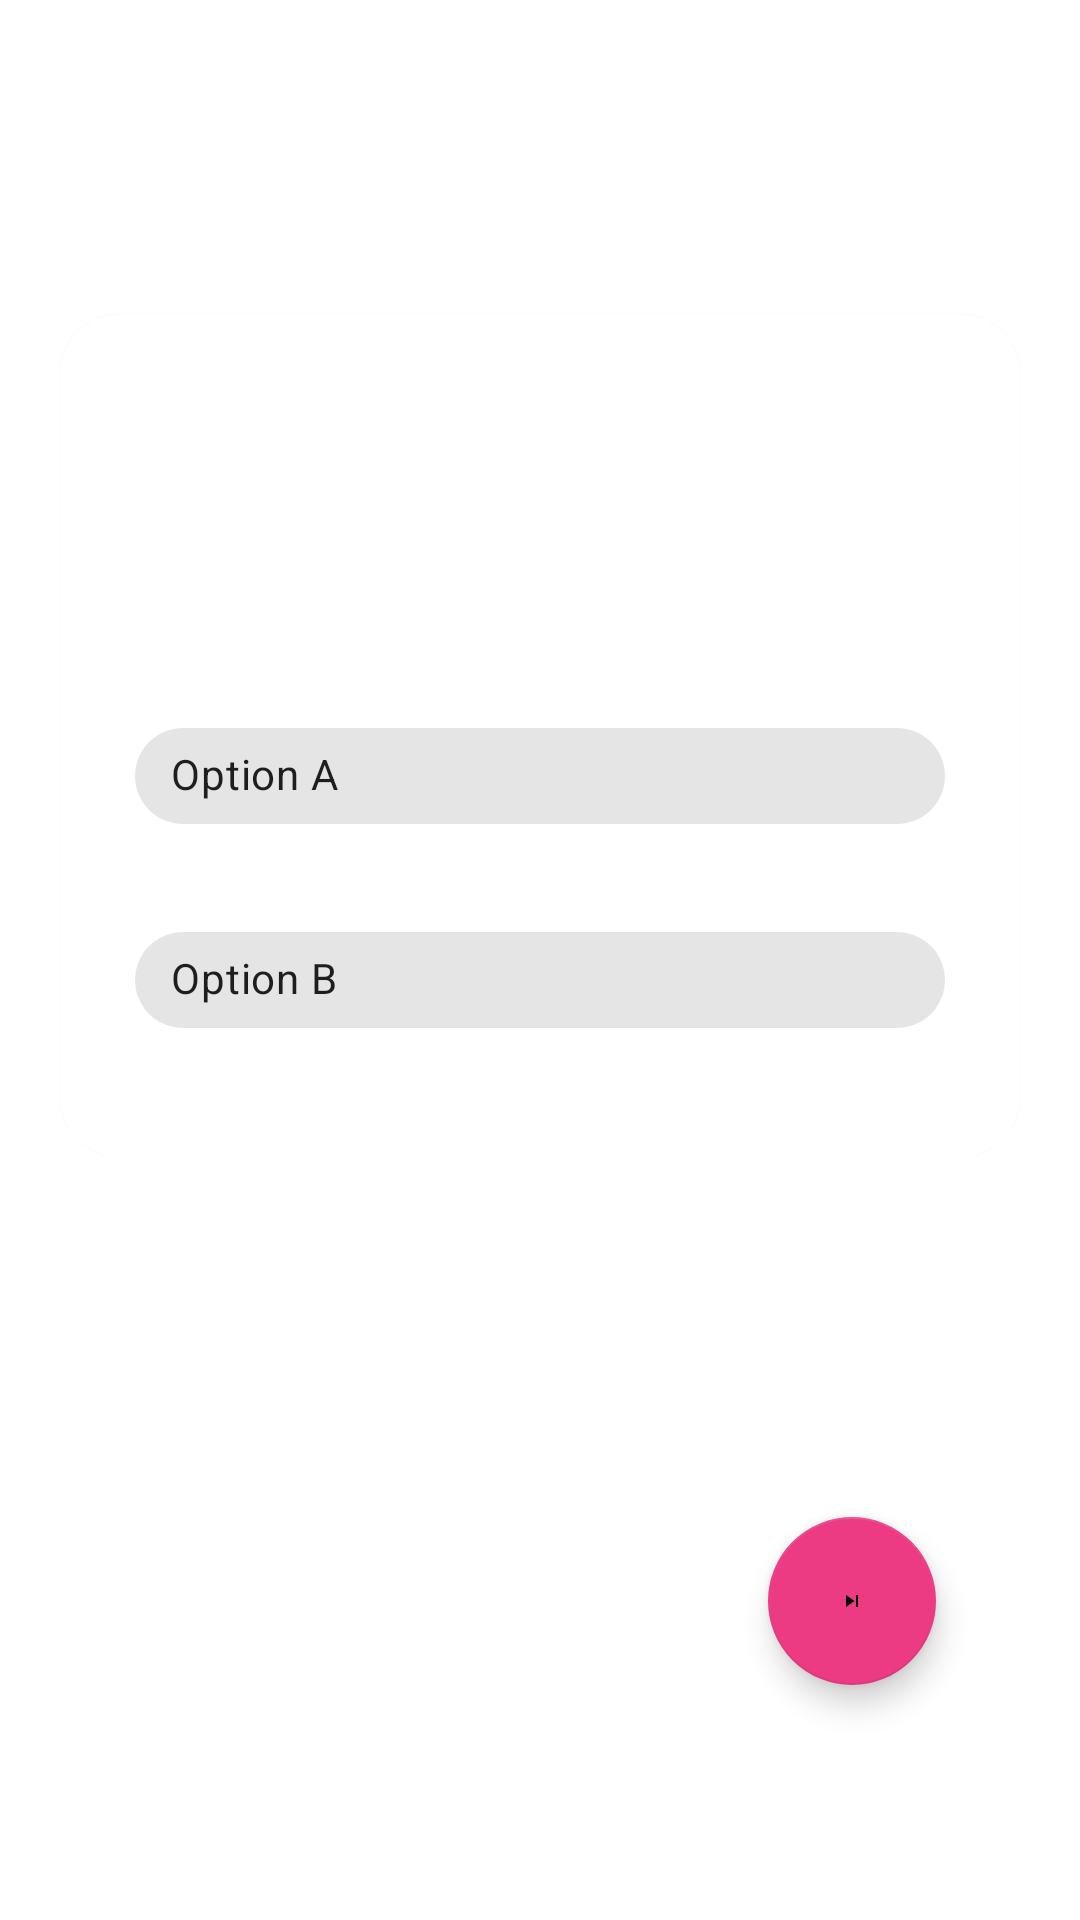

Named icons in this screenshot (1080w x 1920h) and their centers, point (x, y):
next: point (852, 1601)
